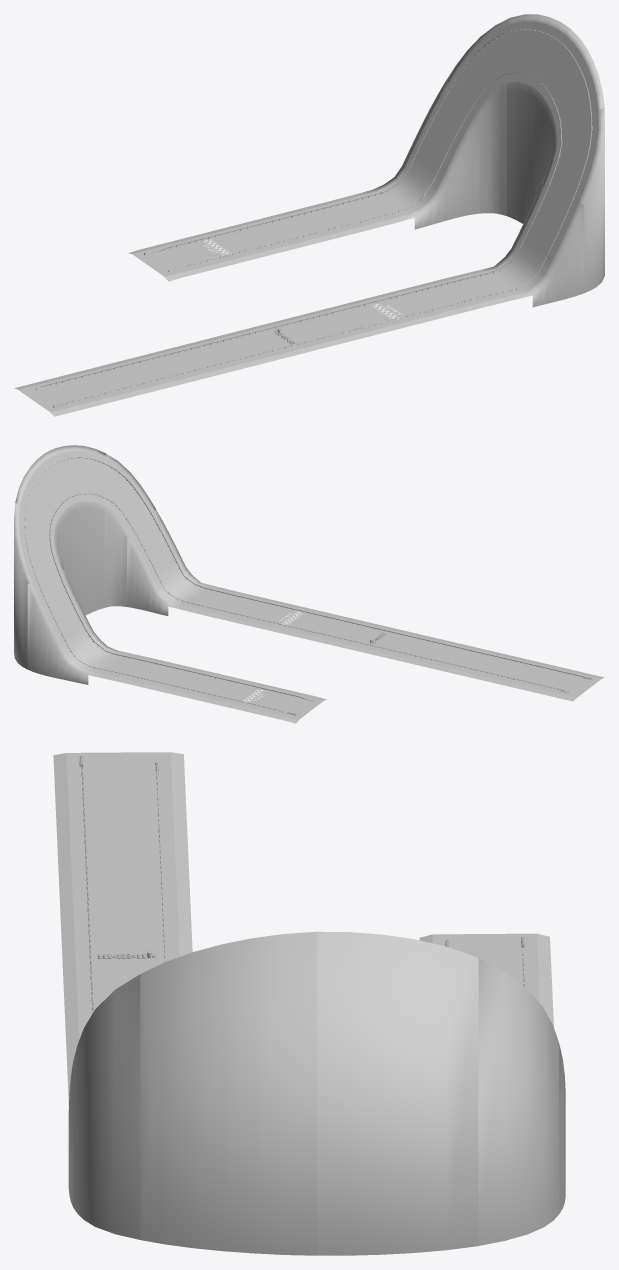
The model's file is Road30D60.fbx.
3 renders of one model, top to bottom at view 1: azimuth 30°, elevation 25°; view 2: azimuth 150°, elevation 25°; view 3: azimuth 270°, elevation 25°, orthographic. The views are drawn at different scales.
Parts seen in each view (by area): view 1: Markers0.010, SCutL7.010, Markers7.010, Markers2.010, SCutR2.010, SCutL5.010, Markers1.010, SCutL6.010, SCutR3.010, Markers8.010, SCutR0.010, Markers4.010 (+19 smaller); view 2: Markers0.010, SCutL4.010, SCutR7.010, Markers7.010, Markers2.010, SCutL2.010, Markers1.010, SCutL3.010, SCutR6.010, Markers8.010, SCutL0.010, Markers4.010 (+19 smaller); view 3: SCutR4.010, SCutR5.010, SCutR6.010, SCutR3.010, Markers0.010, SCutR0.010, SCutL0.010, SCutR1.010, Markers9.010, Markers1.010, SCutR9.010, SCutR7.010.
Boxes of the visible parts, x1,y1,x2,y2 form: Markers0.010: (23, 330, 291, 409); SCutL7.010: (367, 111, 479, 229); Markers7.010: (344, 88, 470, 220); Markers2.010: (437, 188, 573, 303); SCutR2.010: (460, 200, 584, 311); SCutL5.010: (506, 73, 540, 223); Markers1.010: (269, 287, 459, 346); SCutL6.010: (471, 75, 506, 215); SCutR3.010: (574, 108, 604, 292); Markers8.010: (214, 204, 366, 253); SCutR0.010: (46, 347, 299, 416); Markers4.010: (541, 44, 592, 131); Markers0.010: (372, 633, 597, 695); SCutL4.010: (68, 494, 105, 615); SCutR7.010: (27, 580, 127, 684); Markers7.010: (36, 572, 144, 675); Markers2.010: (134, 516, 247, 613); SCutL2.010: (127, 533, 229, 619); Markers1.010: (230, 600, 389, 646); SCutL3.010: (104, 499, 133, 607); SCutR6.010: (14, 503, 36, 669); Markers8.010: (128, 662, 254, 701); SCutL0.010: (365, 647, 579, 701); Markers4.010: (52, 458, 106, 499); SCutR4.010: (140, 931, 316, 1255); SCutR5.010: (317, 931, 478, 1255); SCutR6.010: (478, 958, 559, 1245); SCutR3.010: (73, 974, 140, 1239); Markers0.010: (81, 752, 164, 953); SCutR0.010: (53, 753, 89, 955); SCutL0.010: (156, 752, 192, 954); SCutR1.010: (62, 954, 92, 1093); Markers9.010: (447, 933, 524, 985); Markers1.010: (90, 953, 164, 1012); SCutR9.010: (522, 933, 552, 998); SCutR7.010: (559, 1044, 565, 1213).
Size of the model in its own units: 22972 by 7208 by 10302.
